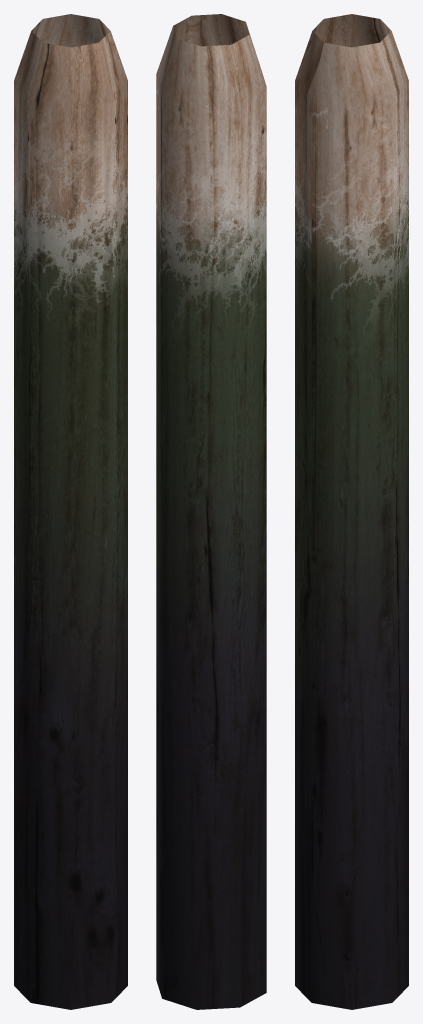
The model's file is DECK_POLE_WATERLINE.fbx.
3 views of the same model, side by side, from view 1: azimuth 90°, elevation 25°; view 2: azimuth 210°, elevation 25°; view 3: azimuth 270°, elevation 25° (orthographic).
Parts seen in each view (by area): view 1: Cylinder.002; view 2: Cylinder.002; view 3: Cylinder.002.
Part boxes in pixels (left/top/right/bottom): Cylinder.002: left=14, top=14, right=127, bottom=1009; Cylinder.002: left=156, top=14, right=266, bottom=1009; Cylinder.002: left=295, top=14, right=408, bottom=1009.
Bounding box in the file's own units: 24.2 × 224 × 24.2.
1 material, 1 textured.
